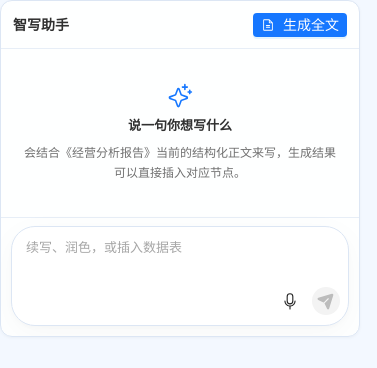
Scenario: WritingChatPanel › 把用户在输入框里的整篇写作要求自动路由到全文链路
Type "帮我完整详细写这个报告" into the text box. click: {"x": 180, "y": 255}
box: [12, 227, 348, 283]
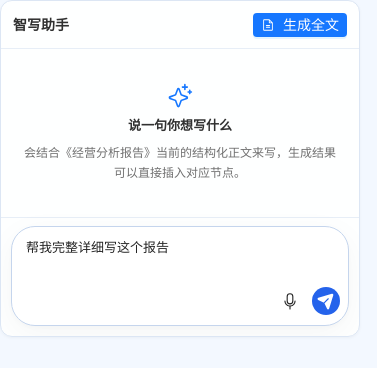
Press Enter
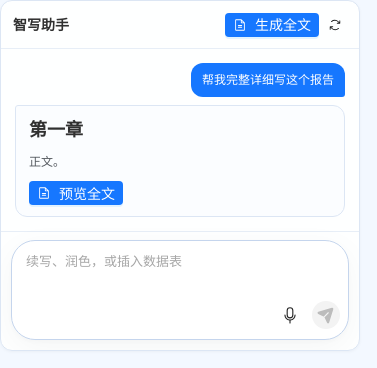
Now the text "帮我完整详细写这个报告" is shown, box [191, 63, 345, 97]
Now the button "预览全文" is shown, box [29, 181, 123, 205]
